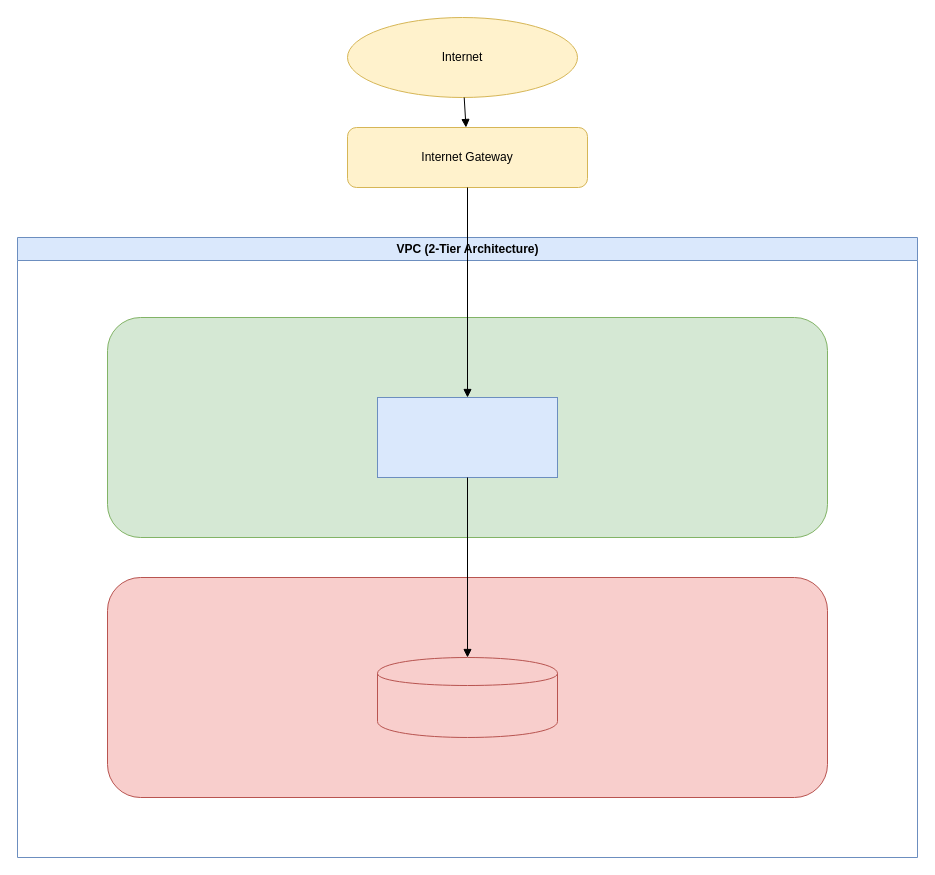
The diagram is 935 pixels wide and 875 high, and some of its shapes have lost their labels. The shapes that lost their labels are listed below. From the top down, each one's centre as x and y in pixels, then its label:
At pixel 467 437: "EC2 (App Server)".
At pixel 467 697: "RDS Database".
